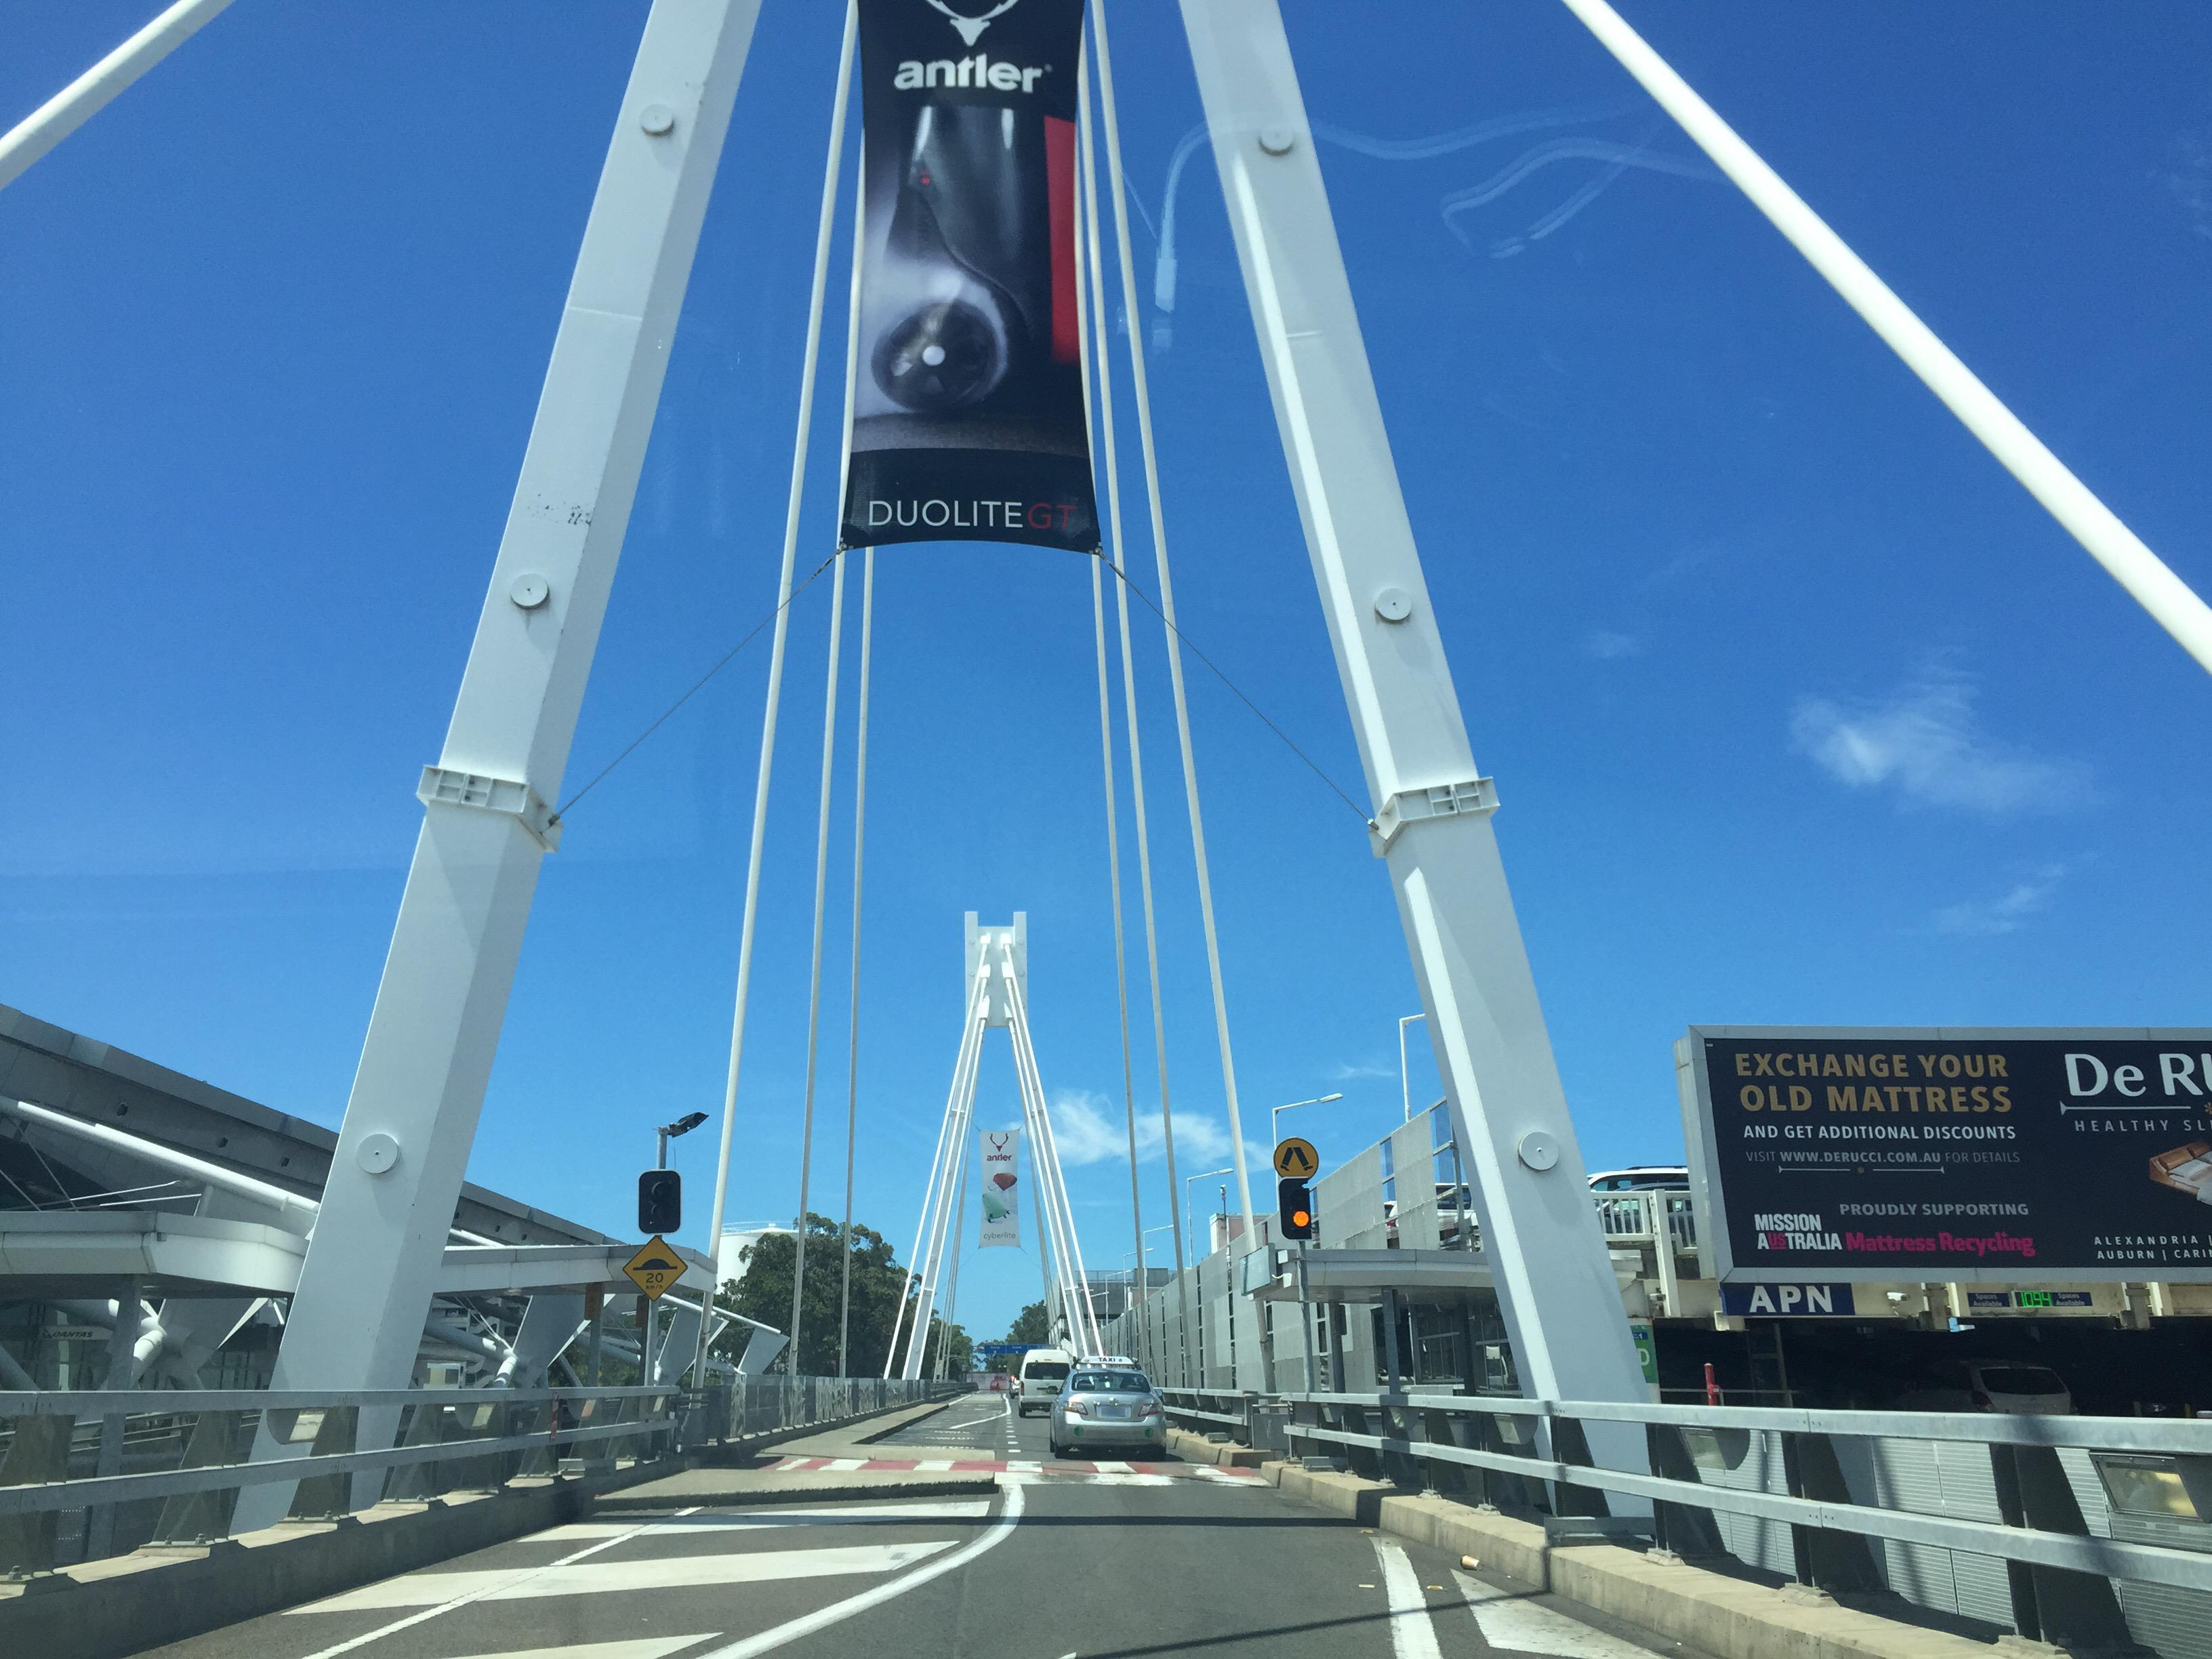vinyl banner: (831, 0, 1109, 577), (965, 1107, 1036, 1256)
